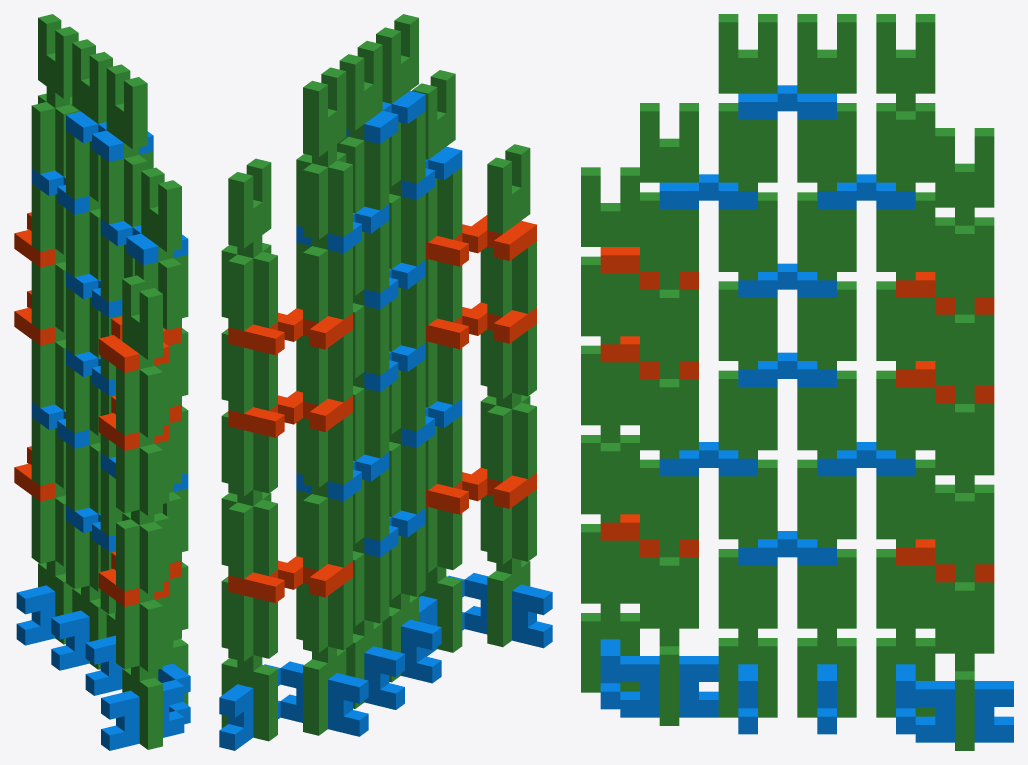
The picture shows the model from 3 angles, left to right: view 1: azimuth 30°, elevation 25°; view 2: azimuth 150°, elevation 25°; view 3: azimuth 270°, elevation 25°; orthographic projection. The views are drawn at different scales.
Parts seen in each view (by area): view 1: H_SIM (×29), X_SIM (×13), L_SIM (×6); view 2: H_SIM (×38), X_SIM (×14), L_SIM (×6); view 3: H_SIM (×38), X_SIM (×14), L_SIM (×6).
Part boxes in pixels (x1=…): H_SIM (×29): x1=31, y1=14, x2=188, y2=749; X_SIM (×13): x1=16, y1=111, x2=190, y2=750; L_SIM (×6): x1=14, y1=212, x2=181, y2=606; H_SIM (×38): x1=221, y1=14, x2=536, y2=741; X_SIM (×14): x1=219, y1=90, x2=552, y2=750; L_SIM (×6): x1=228, y1=215, x2=536, y2=603; H_SIM (×38): x1=581, y1=14, x2=994, y2=750; X_SIM (×14): x1=600, y1=85, x2=1013, y2=742; L_SIM (×6): x1=600, y1=247, x2=994, y2=582.
Bounding box in the file's own units: 1.3 × 5.07 × 2.86.
